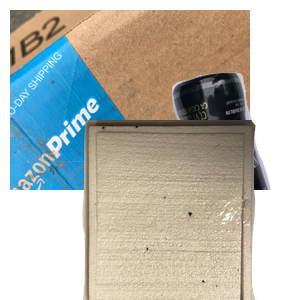cardboard: (10, 10, 250, 190)
glass: (106, 70, 300, 250)
plastic: (23, 161, 263, 300)
trash: (80, 120, 300, 300)
